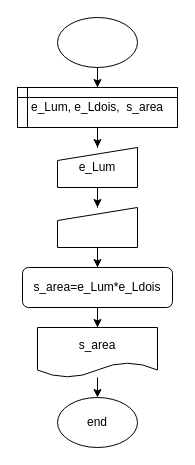
The diagram is 195 pixels wide and 465 high, and some of its shapes have lost their labels. Each missing label, with the centre of its shape:
"e_Ldois" goes at (x=97, y=227).
"star" goes at (x=97, y=42).
